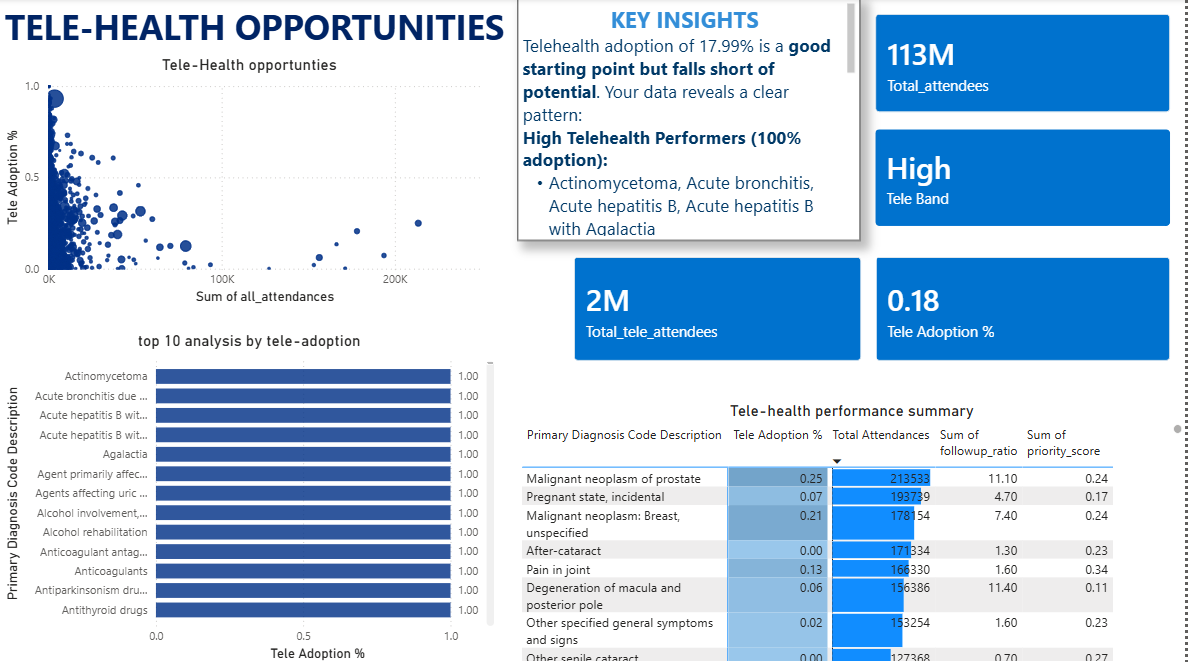

Layout of this report page (visuals, bound fields, positions):
{"tool":"powerbi","page":{"name":"tele-health opportunities","canvas":[1280,720],"ordinal":3},"visuals":[{"type":"scatterChart","title":"Tele-Health opportunties","fields":{"X":["Sum(nhs_outpatient_dataaa.all_attendances)"],"Y":["nhs_outpatient_dataaa.Tele Adoption %"],"Category":["nhs_outpatient_dataaa.Primary Diagnosis Code Description"],"Size":["Sum(nhs_outpatient_dataaa.followup_ratio)"]},"box":[0,61.7,538.3,273.3],"z":0},{"type":"clusteredBarChart","title":"top 10 analysis by tele-adoption","fields":{"Category":["nhs_outpatient_dataaa.Primary Diagnosis Code Description"],"Y":["nhs_outpatient_dataaa.Tele Adoption %"]},"box":[0,360,538,360],"z":1000},{"type":"pivotTable","title":"Tele-health performance summary","fields":{"Rows":["nhs_outpatient_dataaa.Primary Diagnosis Code Description"],"Values":["nhs_outpatient_dataaa.Tele Adoption %","nhs_outpatient_dataaa.Total Attendances","Sum(nhs_outpatient_dataaa.followup_ratio)","Sum(nhs_outpatient_dataaa.priority_score)"]},"box":[558,436,722,284],"z":2000},{"type":"cardVisual","fields":{"Data":["nhs_outpatient_dataaa.Tele Adoption %"]},"box":[928,262,352,146],"z":3000},{"type":"cardVisual","fields":{"Data":["Sum(nhs_outpatient_dataaa.total_tele)"]},"box":[602,262,344,146],"z":4000},{"type":"cardVisual","fields":{"Data":["Sum(single value.total_attendances)"]},"box":[928,0,352,140],"z":5000},{"type":"cardVisual","fields":{"Data":["nhs_outpatient_dataaa.Tele Band"]},"box":[928,124,352,138],"z":6000},{"type":"textbox","box":[0,0,558.6,61.4],"z":7000},{"type":"textbox","box":[558,0,370,262],"z":7001}]}

Visuals, with their boxes in screenshot pixels (x1, y1, x2, y2), scaled from the page's 1280x720 canvas onto the 1188x664 screenshot:
"Tele-Health opportunties" scatterChart: [0,57,500,309]
"top 10 analysis by tele-adoption" clusteredBarChart: [0,332,499,663]
"Tele-health performance summary" pivotTable: [518,402,1187,663]
cardVisual - nhs_outpatient_dataaa.Tele Adoption %: [861,242,1187,376]
cardVisual - Sum(nhs_outpatient_dataaa.total_tele): [559,242,878,376]
cardVisual - Sum(single value.total_attendances): [861,0,1187,129]
cardVisual - nhs_outpatient_dataaa.Tele Band: [861,114,1187,242]
textbox: [0,0,518,57]
textbox: [518,0,861,242]
